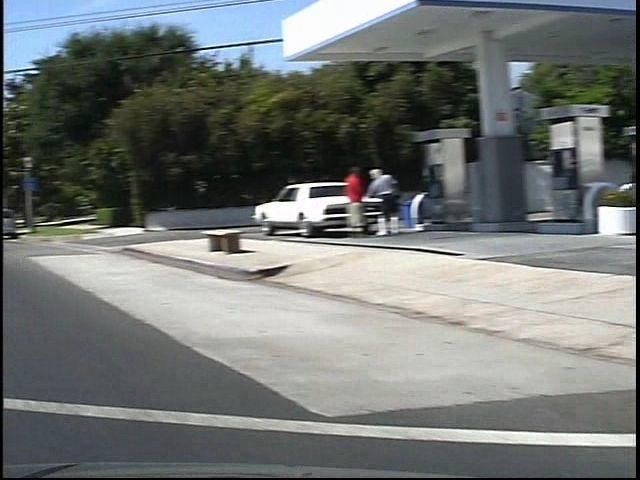person: (343, 166, 383, 243), (323, 162, 355, 242)
